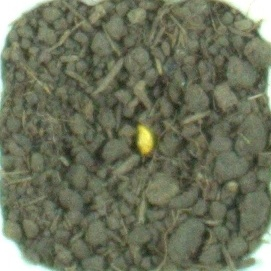pepper seed: (52, 44, 212, 201)
